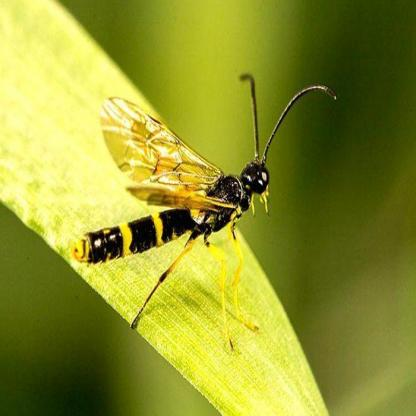sawfly: (66, 73, 334, 355)
